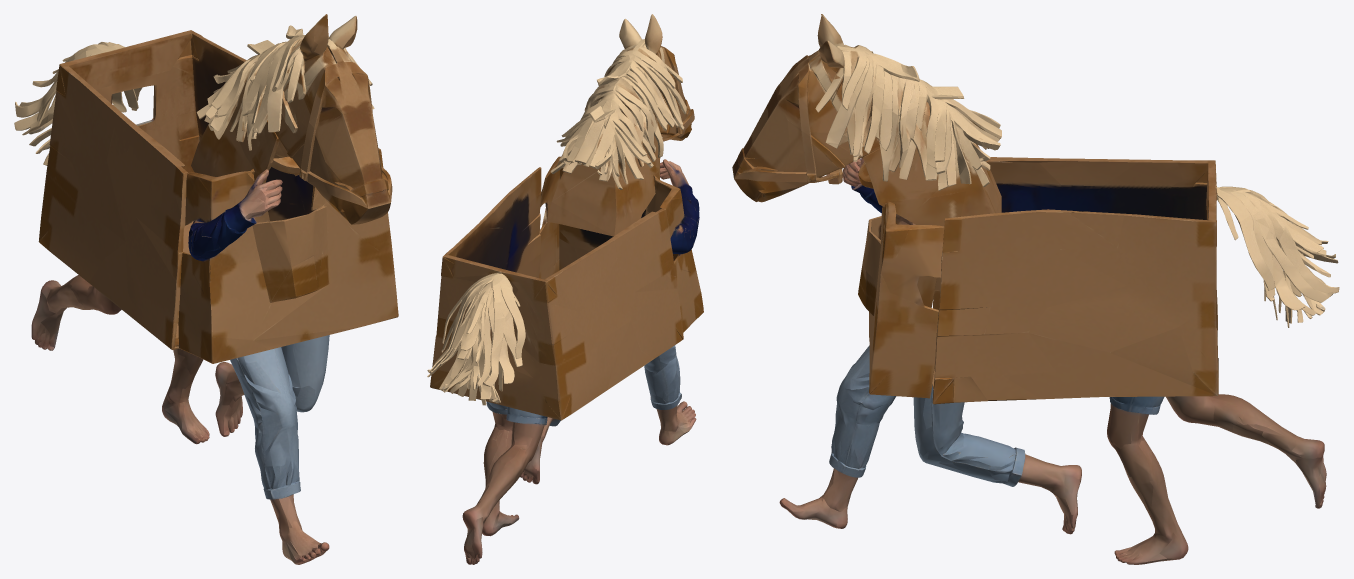
The model's file is Meshy_AI_Cardboard_Horse_Remes_1007152701_texture.obj.
The picture shows the model from 3 angles, left to right: view 1: azimuth 30°, elevation 25°; view 2: azimuth 150°, elevation 25°; view 3: azimuth 270°, elevation 25°; orthographic projection. The views are drawn at different scales.
Parts seen in each view (by area): view 1: Meshy_AI_Cardboard_Horse_Remes_1007152701_texture; view 2: Meshy_AI_Cardboard_Horse_Remes_1007152701_texture; view 3: Meshy_AI_Cardboard_Horse_Remes_1007152701_texture.
Boxes of the visible parts, bbox=[...] form: Meshy_AI_Cardboard_Horse_Remes_1007152701_texture: bbox=[14, 14, 398, 564]; Meshy_AI_Cardboard_Horse_Remes_1007152701_texture: bbox=[427, 14, 703, 564]; Meshy_AI_Cardboard_Horse_Remes_1007152701_texture: bbox=[732, 14, 1339, 564].
Size of the model in its own units: 0.6929 by 1.83 by 1.89.
Materials: 1 (1 with a texture image).
